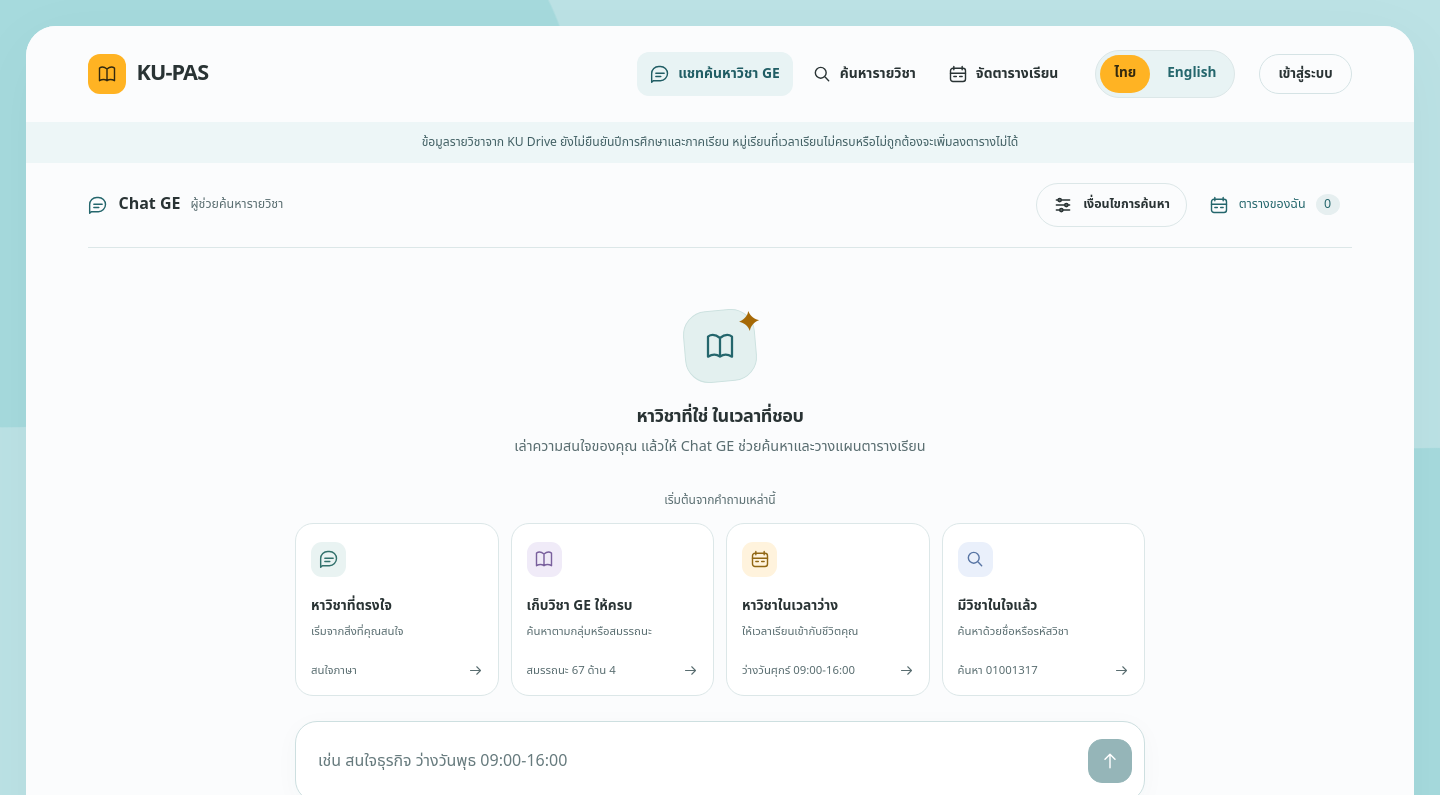
Test: guides the student through เก็บวิชา GE ให้ครบ before searching
Click the button "เก็บวิชา GE ให้ครบ" at (612, 609), box [510, 523, 714, 696]
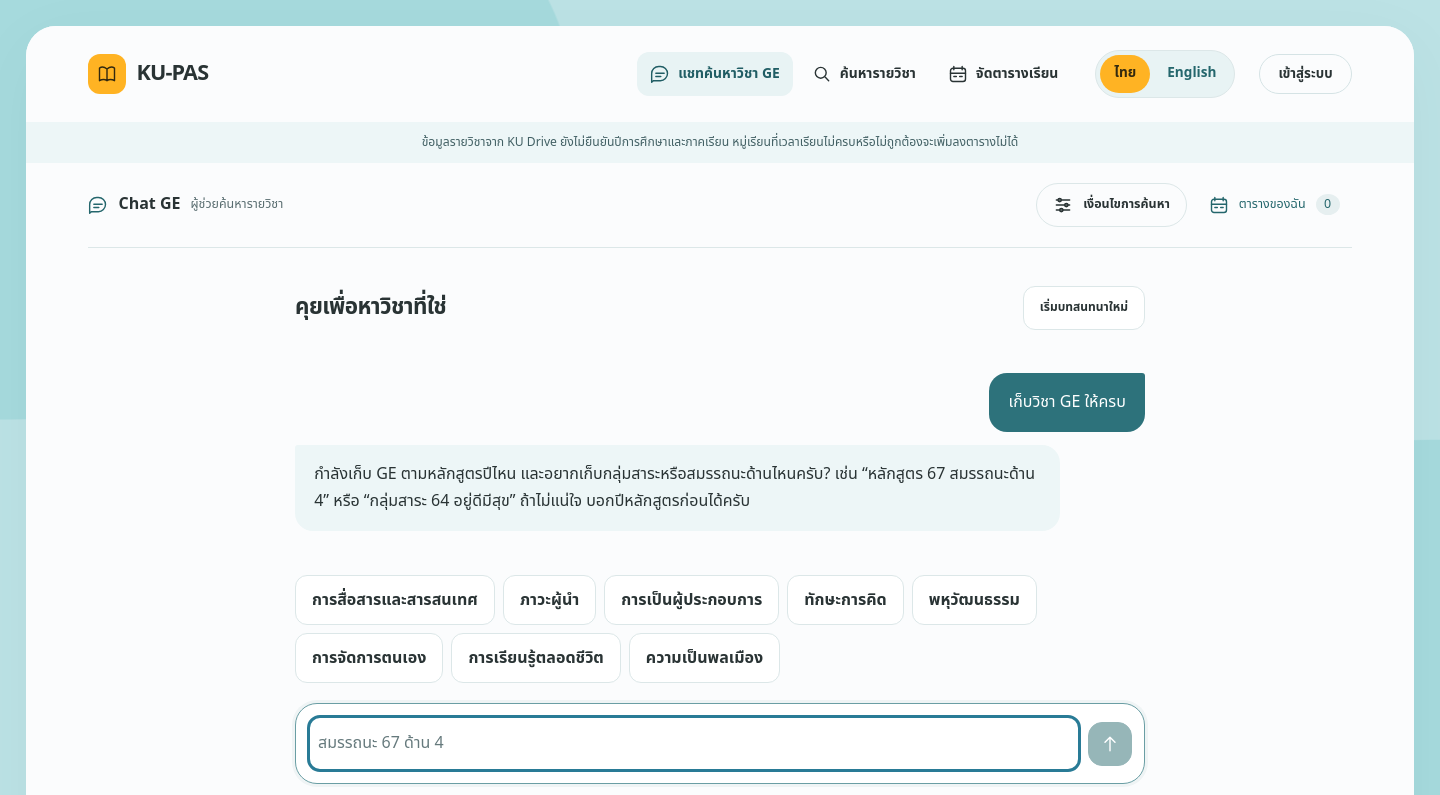
Check: the text "กำลังเก็บ GE ตามหลักสูตรปีไหน" is shown, box [314, 462, 1039, 513]
Type "4" into the field named "ถามเรื่องรายวิชา GE" at (694, 744), box [308, 716, 1080, 771]
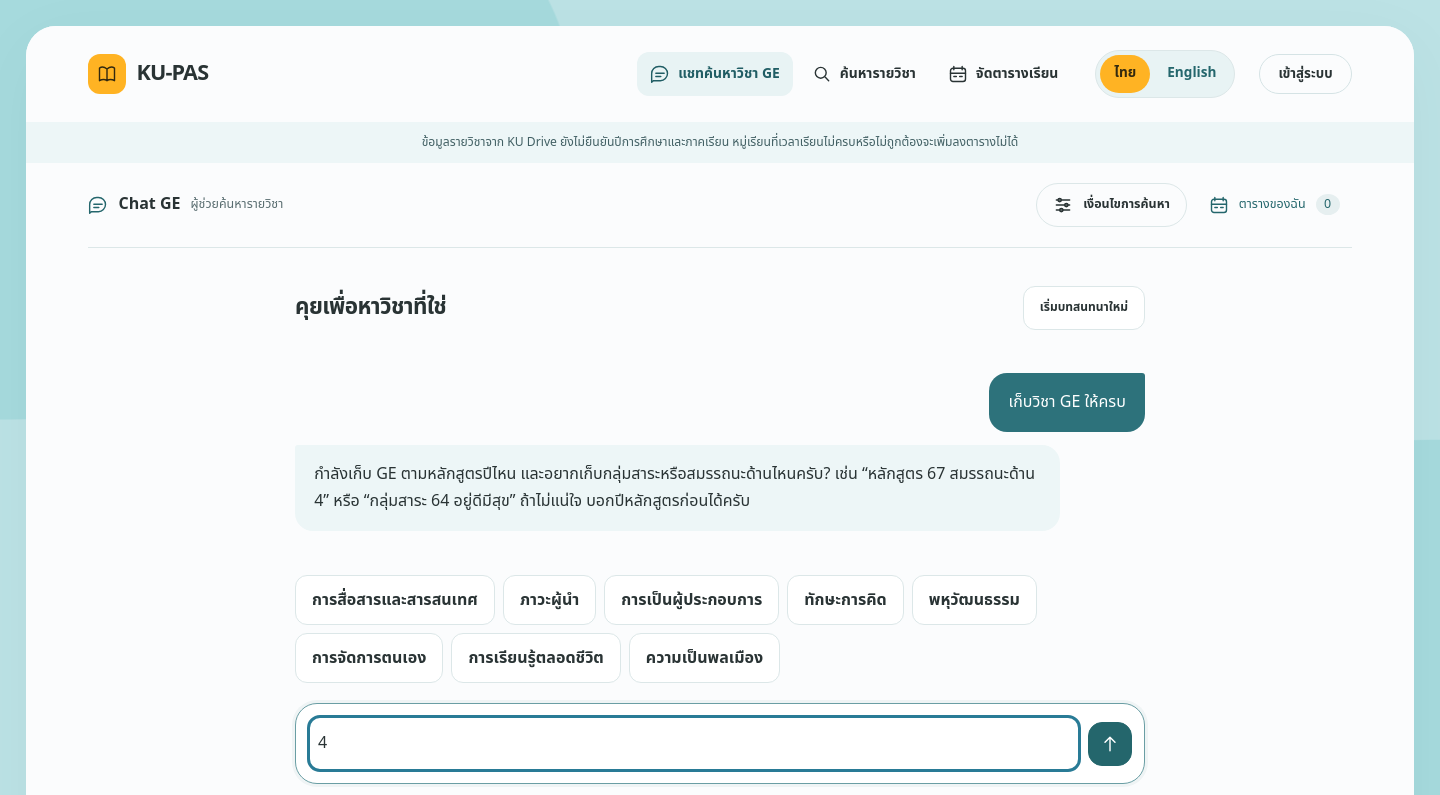
Check: the button named "ส่งข้อความ" is enabled
Click the button named "ส่งข้อความ" at (1110, 744), box [1088, 722, 1132, 766]
(page scrolled)
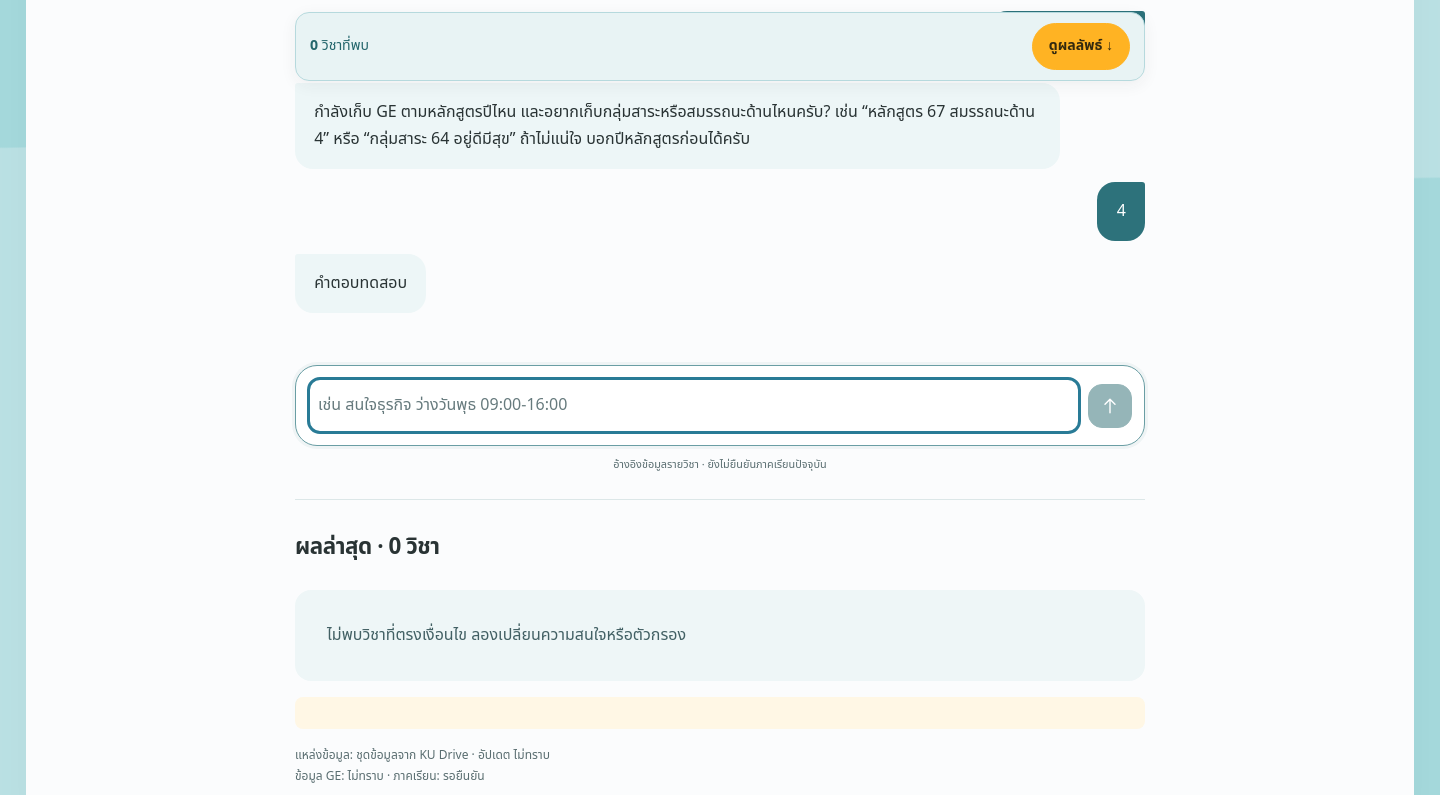
Check: the text "คำตอบทดสอบ" is shown, box [295, 254, 426, 313]
Check: the text "4" is shown, box [1098, 182, 1145, 241]
